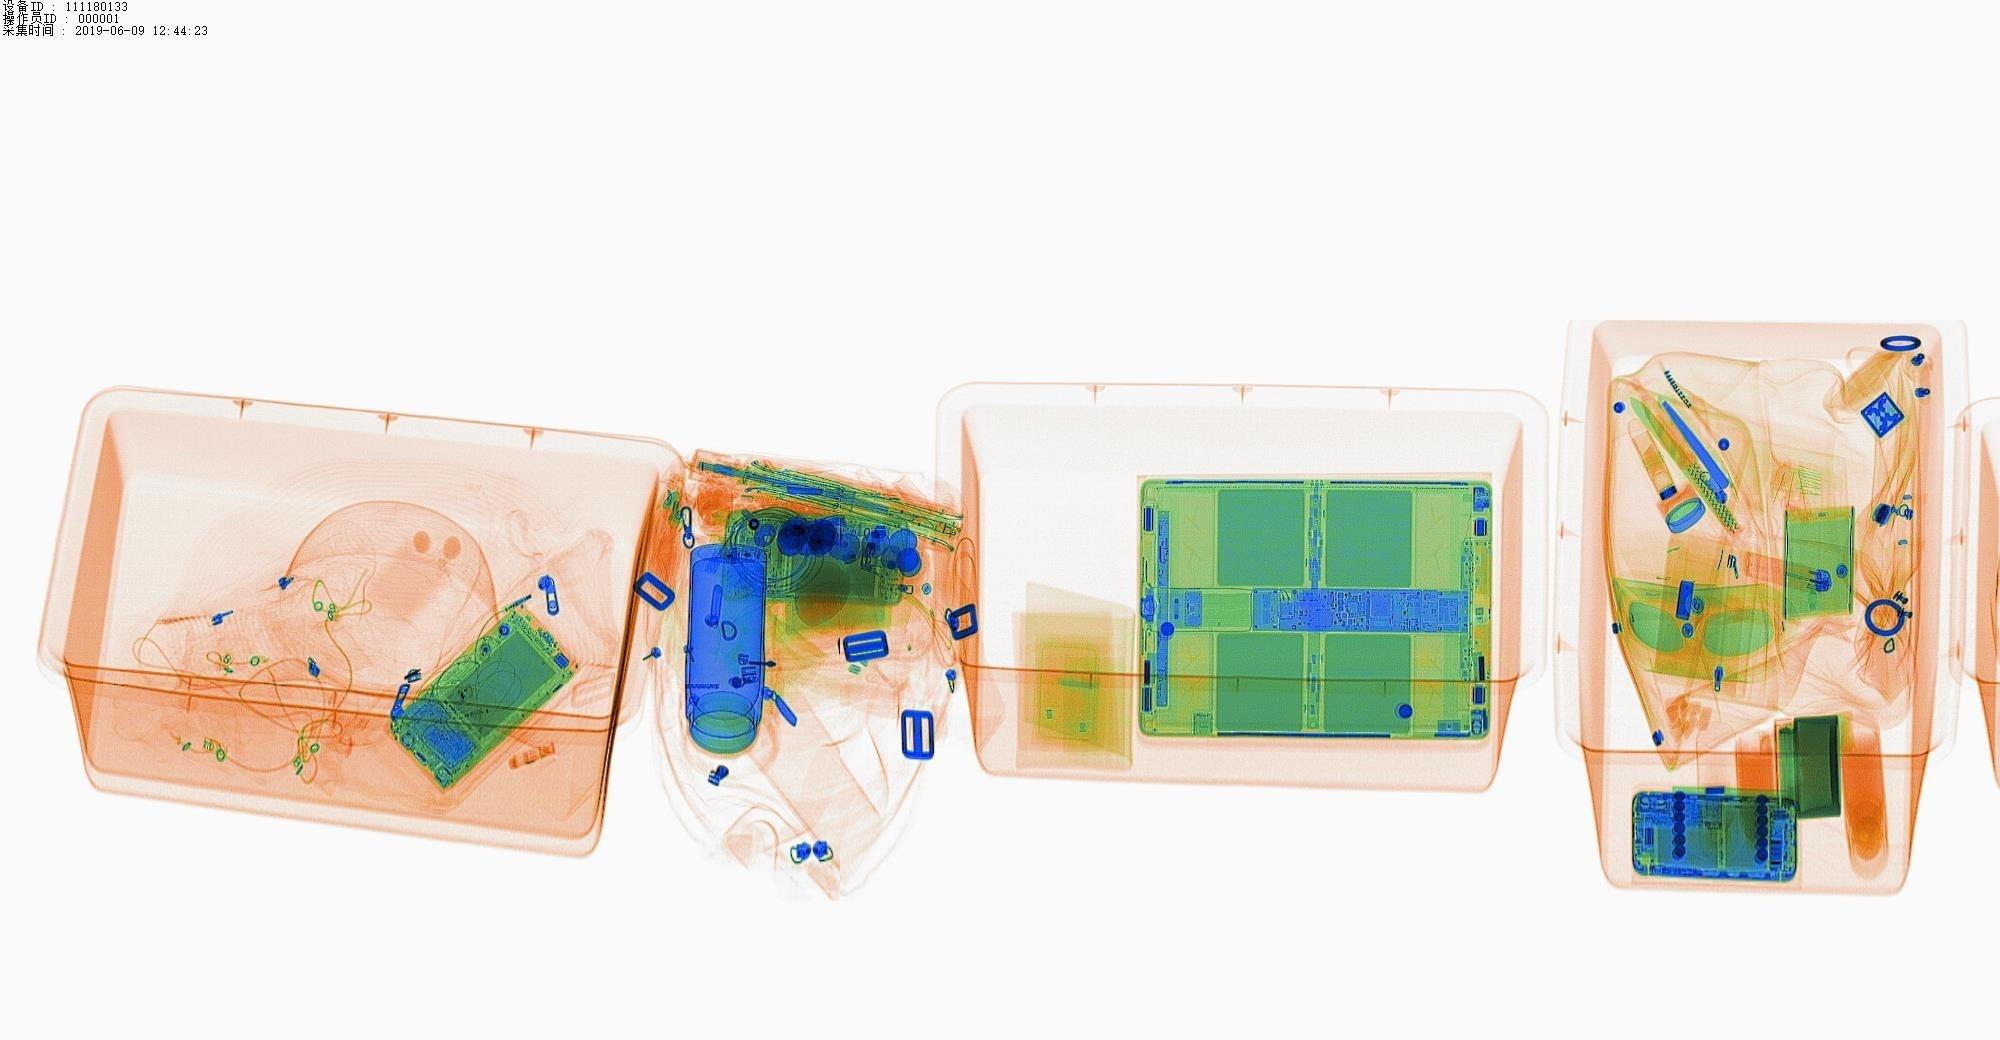NonmetallicFire: (1728, 552, 1839, 607)
